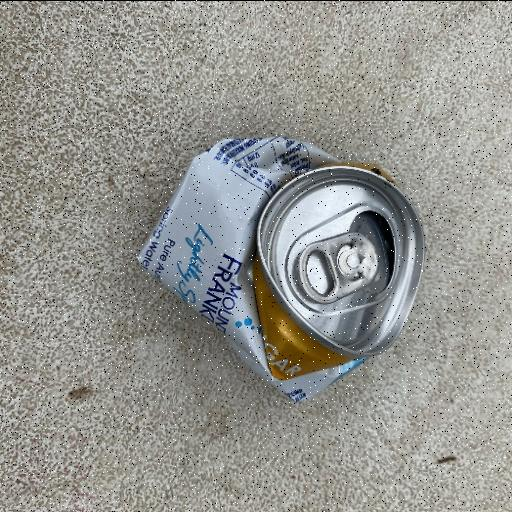Metal: (134, 133, 426, 403)
